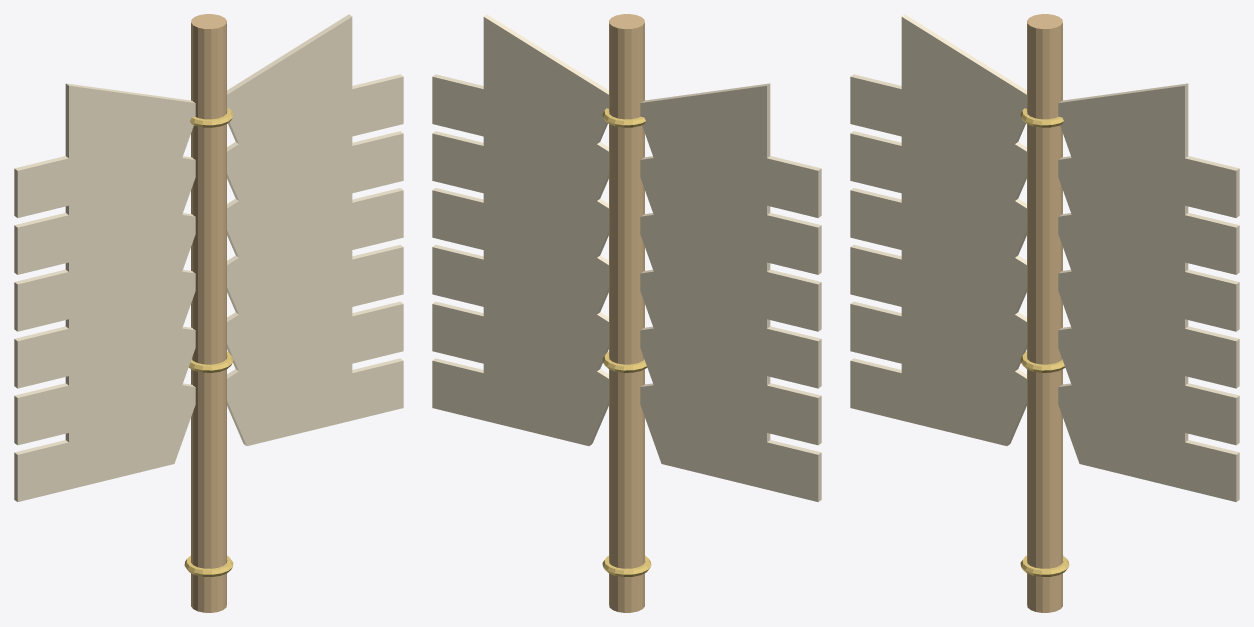
File: shinji_gohei.glb
3 renders of one model, left to right at view 1: azimuth 30°, elevation 25°; view 2: azimuth 150°, elevation 25°; view 3: azimuth 330°, elevation 25°, orthographic.
Visible parts, largest first — view 1: Ritual gohei wooden shaft, Gohei sharp zigzag white paper.011, Gohei sharp zigzag white paper.003, Gohei sharp zigzag white paper.008, Gohei sharp zigzag white paper, Gohei sharp zigzag white paper.005, Gohei sharp zigzag white paper.007, Gohei sharp zigzag white paper.010, Gohei sharp zigzag white paper.002, Gohei sharp zigzag white paper.006, Gohei sharp zigzag white paper.001, Gohei sharp zigzag white paper.004 (+1 smaller); view 2: Ritual gohei wooden shaft, Gohei sharp zigzag white paper.005, Gohei sharp zigzag white paper.003, Gohei sharp zigzag white paper.008, Gohei sharp zigzag white paper.011, Gohei sharp zigzag white paper.007, Gohei sharp zigzag white paper.010, Gohei sharp zigzag white paper.006, Gohei sharp zigzag white paper.001, Gohei sharp zigzag white paper.004, Gohei sharp zigzag white paper, Gohei sharp zigzag white paper.002 (+1 smaller); view 3: Ritual gohei wooden shaft, Gohei sharp zigzag white paper.011, Gohei sharp zigzag white paper.002, Gohei sharp zigzag white paper.005, Gohei sharp zigzag white paper.009, Gohei sharp zigzag white paper.001, Gohei sharp zigzag white paper.010, Gohei sharp zigzag white paper.004, Gohei sharp zigzag white paper, Gohei sharp zigzag white paper.006, Gohei sharp zigzag white paper.008, Gohei sharp zigzag white paper.007 (+1 smaller).
Boxes of the visible parts, x1,y1,x2,y2 form: Ritual gohei wooden shaft: [191, 14, 226, 612]; Gohei sharp zigzag white paper.011: [227, 14, 403, 161]; Gohei sharp zigzag white paper.003: [14, 199, 195, 331]; Gohei sharp zigzag white paper.008: [227, 187, 403, 332]; Gohei sharp zigzag white paper: [14, 370, 195, 501]; Gohei sharp zigzag white paper.005: [14, 83, 195, 217]; Gohei sharp zigzag white paper.007: [227, 247, 403, 389]; Gohei sharp zigzag white paper.010: [227, 74, 403, 218]; Gohei sharp zigzag white paper.002: [14, 256, 195, 388]; Gohei sharp zigzag white paper.006: [227, 302, 403, 445]; Gohei sharp zigzag white paper.001: [14, 313, 195, 445]; Gohei sharp zigzag white paper.004: [14, 140, 195, 274]; Ritual gohei wooden shaft: [609, 14, 644, 612]; Gohei sharp zigzag white paper.005: [640, 83, 821, 217]; Gohei sharp zigzag white paper.003: [640, 199, 821, 331]; Gohei sharp zigzag white paper.008: [432, 187, 608, 332]; Gohei sharp zigzag white paper.011: [432, 14, 608, 161]; Gohei sharp zigzag white paper.007: [432, 244, 608, 389]; Gohei sharp zigzag white paper.010: [432, 74, 608, 218]; Gohei sharp zigzag white paper.006: [432, 301, 608, 445]; Gohei sharp zigzag white paper.001: [640, 315, 821, 445]; Gohei sharp zigzag white paper.004: [640, 140, 821, 274]; Gohei sharp zigzag white paper: [640, 372, 821, 501]; Gohei sharp zigzag white paper.002: [640, 257, 821, 388]; Ritual gohei wooden shaft: [1027, 14, 1062, 612]; Gohei sharp zigzag white paper.011: [1058, 83, 1239, 217]; Gohei sharp zigzag white paper.002: [850, 187, 1026, 332]; Gohei sharp zigzag white paper.005: [850, 14, 1026, 161]; Gohei sharp zigzag white paper.009: [1058, 199, 1239, 331]; Gohei sharp zigzag white paper.001: [850, 245, 1026, 389]; Gohei sharp zigzag white paper.010: [1058, 140, 1239, 274]; Gohei sharp zigzag white paper.004: [850, 74, 1026, 218]; Gohei sharp zigzag white paper: [850, 301, 1026, 445]; Gohei sharp zigzag white paper.006: [1058, 372, 1239, 501]; Gohei sharp zigzag white paper.008: [1058, 257, 1239, 388]; Gohei sharp zigzag white paper.007: [1058, 315, 1239, 445].
Bounding box in the file's own units: 1.35 × 1.95 × 0.1497.
